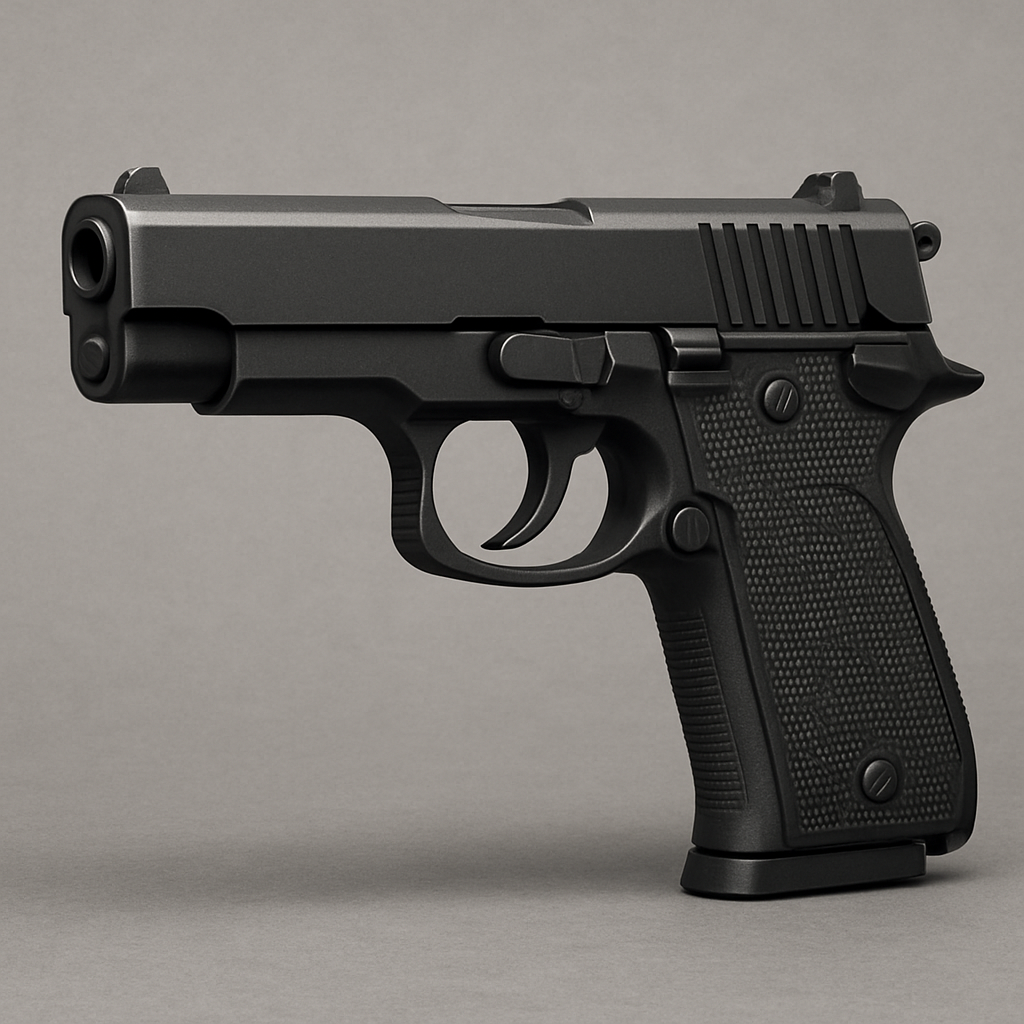gun_001: (46, 156, 995, 904)
